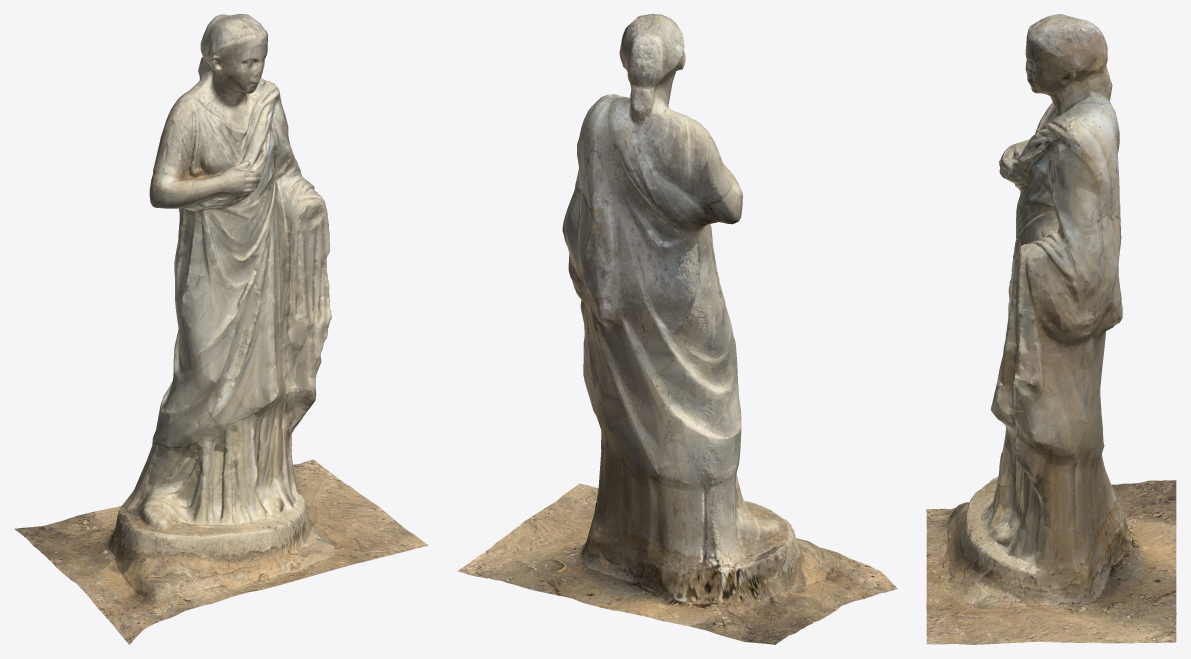
The model's file is draped-statue-byrsa-hill-carthage_--_opt.glb.
3 renders of one model, left to right at view 1: azimuth 30°, elevation 25°; view 2: azimuth 150°, elevation 25°; view 3: azimuth 270°, elevation 25°, orthographic. The views are drawn at different scales.
Parts seen in each view (by area): view 1: Object_3; view 2: Object_3; view 3: Object_3.
Boxes of the visible parts, bbox=[...] form: Object_3: bbox=[14, 14, 428, 644]; Object_3: bbox=[457, 14, 897, 644]; Object_3: bbox=[926, 14, 1176, 644].
Bounding box in the file's own units: 0.9185 × 1.59 × 0.6128.
Materials: 1 (1 with a texture image).
